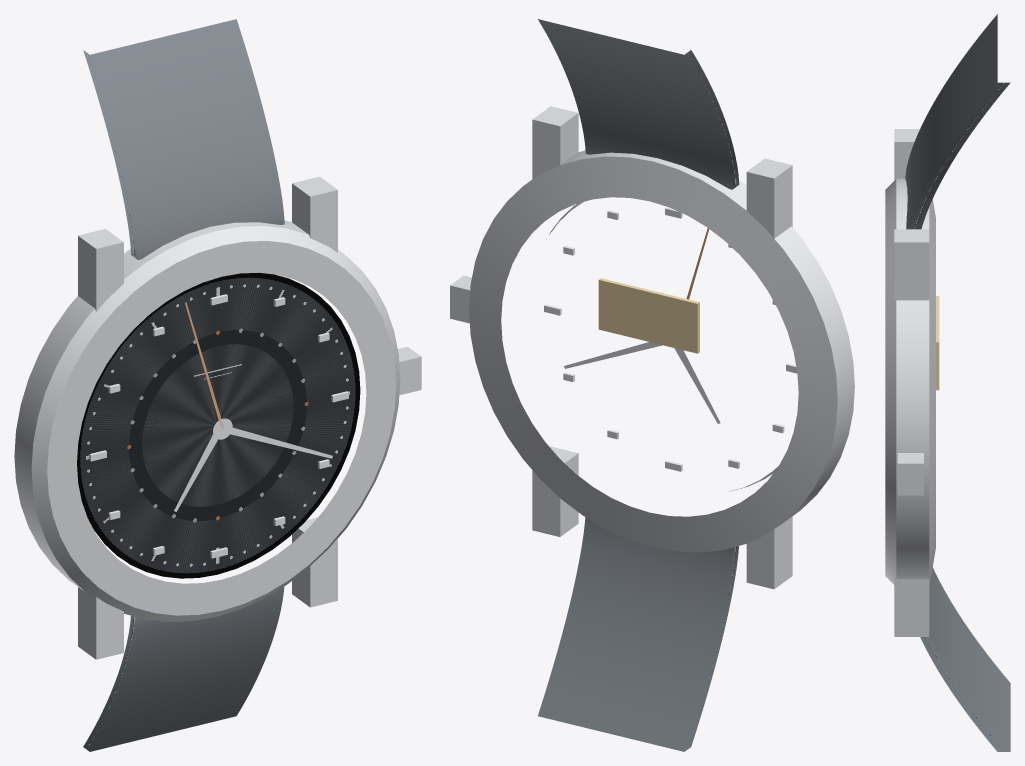
The model's file is orison-08.glb.
The picture shows the model from 3 angles, left to right: view 1: azimuth 30°, elevation 25°; view 2: azimuth 150°, elevation 25°; view 3: azimuth 270°, elevation 25°; orthographic projection. The views are drawn at different scales.
Visible parts, largest first — view 1: WatchMesh; view 2: WatchMesh; view 3: WatchMesh.
Boxes of the visible parts, x1=… form: WatchMesh: x1=14, y1=19, x2=421, y2=751; WatchMesh: x1=450, y1=19, x2=854, y2=751; WatchMesh: x1=885, y1=14, x2=1010, y2=751.
Bounding box in the file's own units: 1.97 × 3.36 × 0.58.
Materials: 6 (1 with a texture image).
